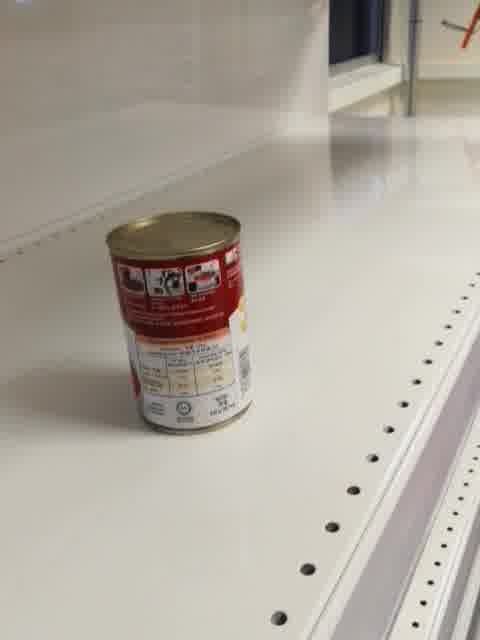tomatosoup: (101, 208, 258, 437)
